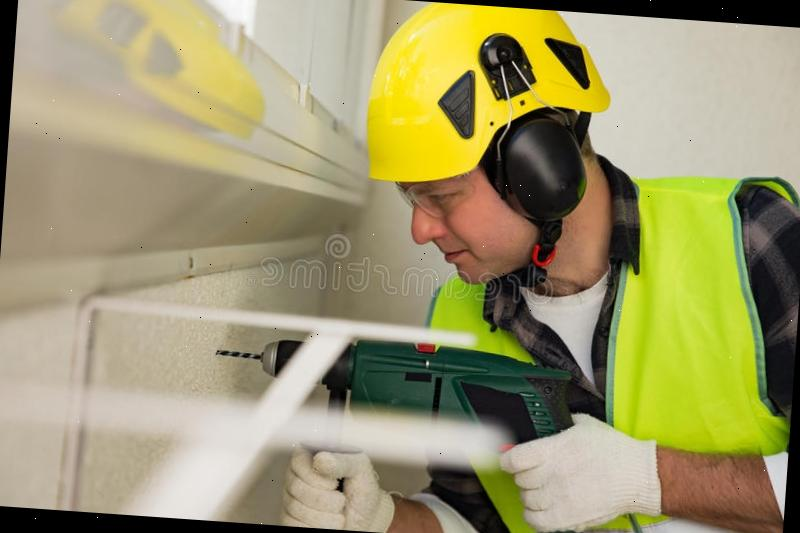helmet: (359, 0, 617, 204)
wear: (406, 271, 799, 533)
